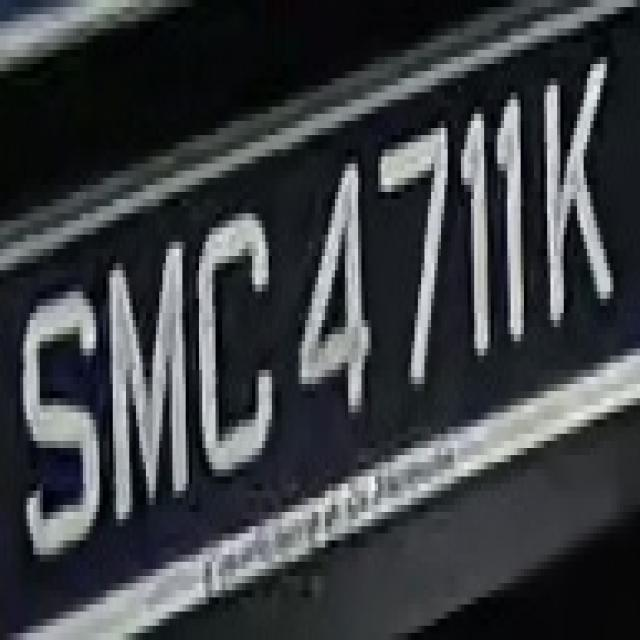1: (448, 64, 500, 377), (484, 64, 524, 391)
4: (275, 156, 375, 420)
7: (371, 106, 451, 420)
C: (179, 199, 279, 505)
K: (534, 50, 623, 348)
M: (96, 228, 196, 548)
S: (10, 256, 103, 583)
